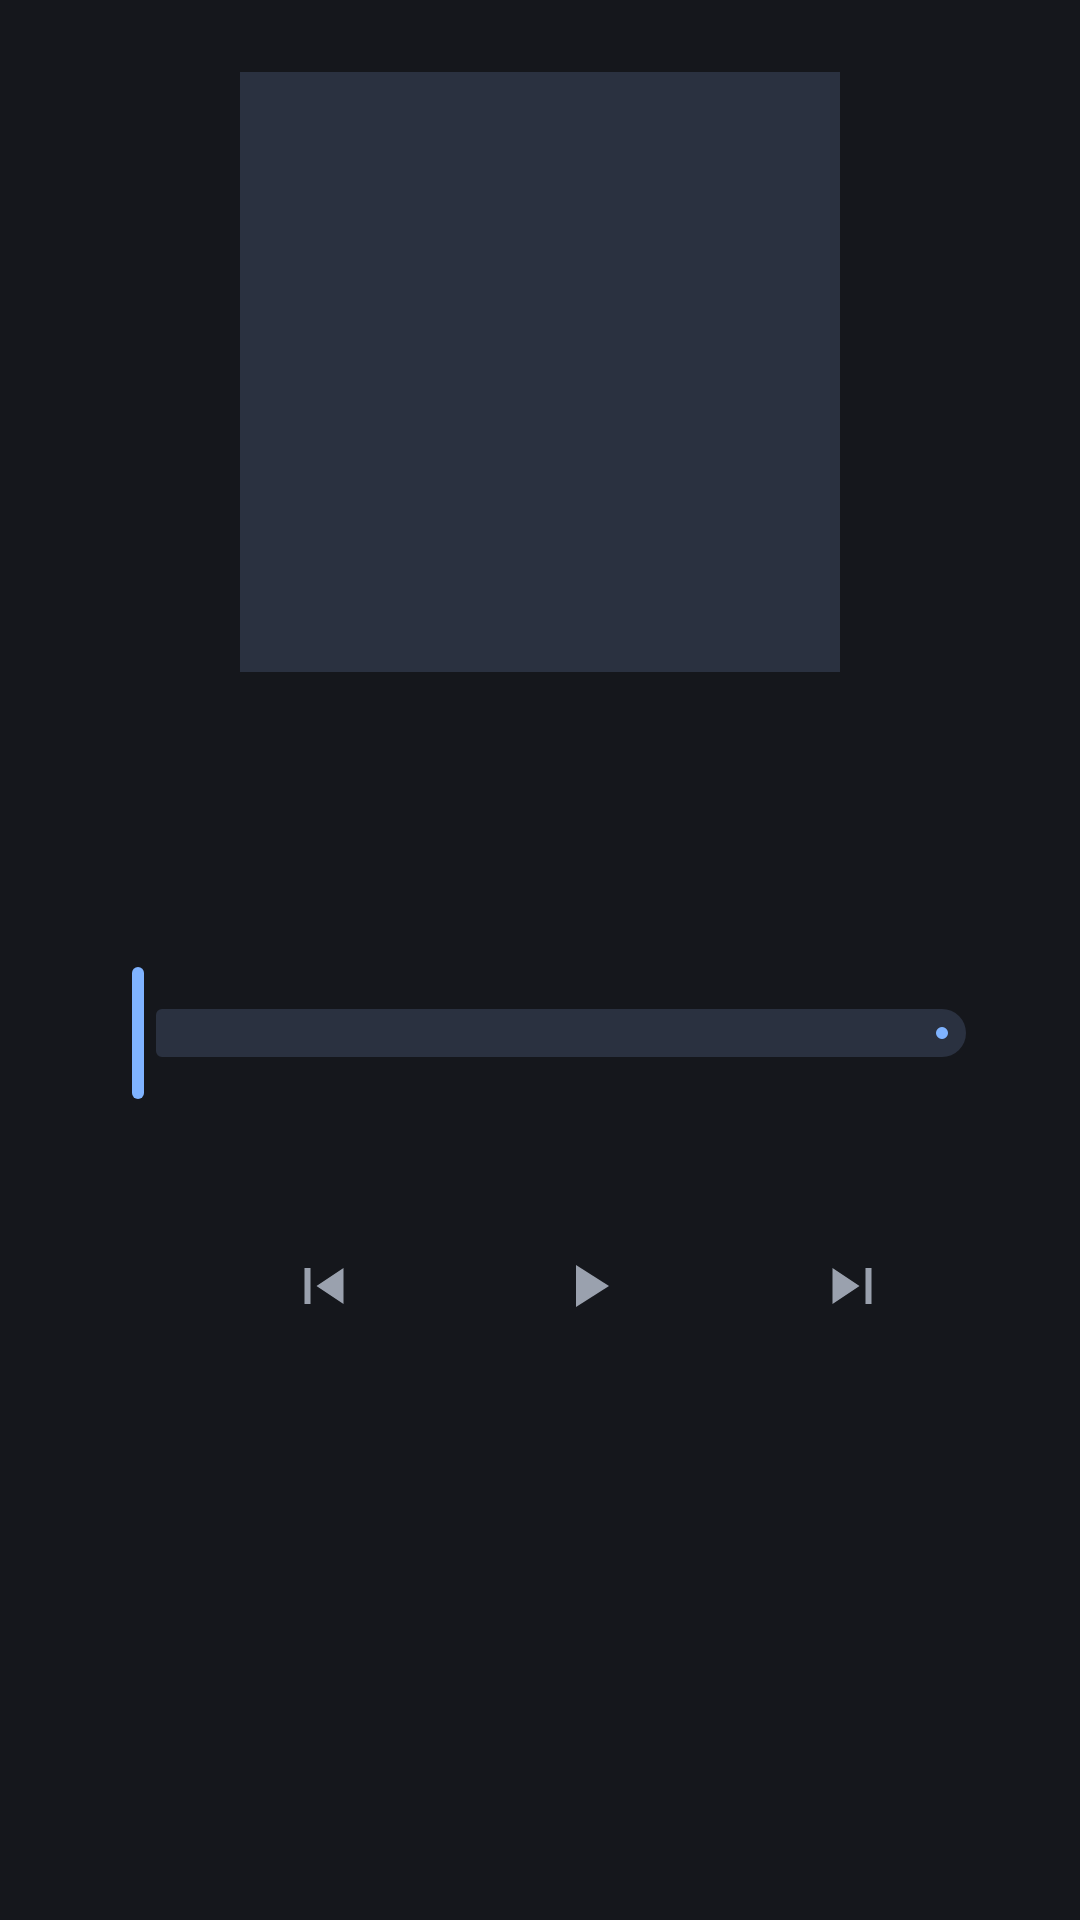

Where to tap for icons on this 1080 × 1920 app screen, as [x,y]:
Воспроизвести: [592,1286]
Предыдущий трек: [324,1286]
Следующий трек: [852,1286]
